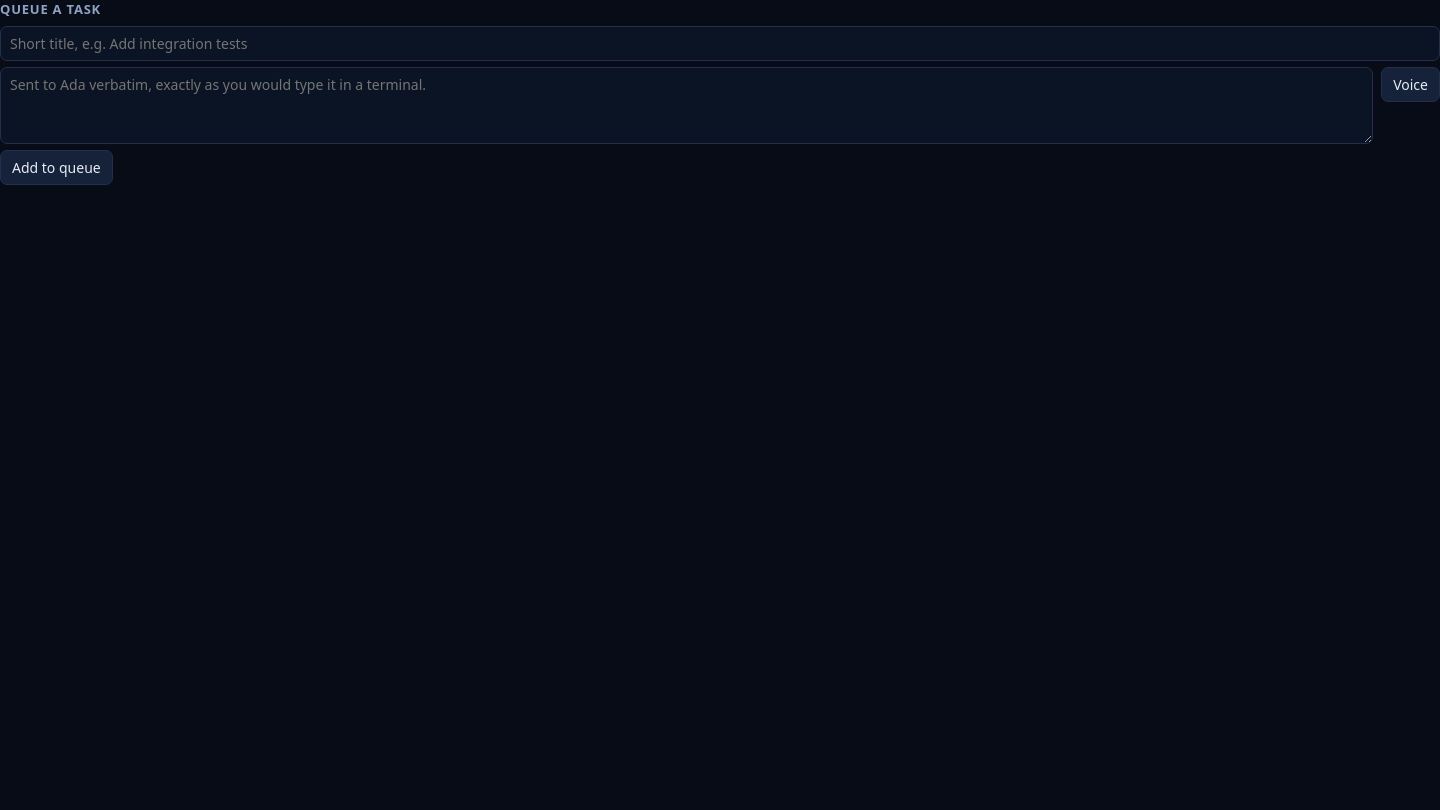
Test: task voice dictation › fills the edited text when the user edits and sends by hand
Step 1. Click the button with aria-label "Start task instruction" → (1411, 84), box [1381,66,1439,102]
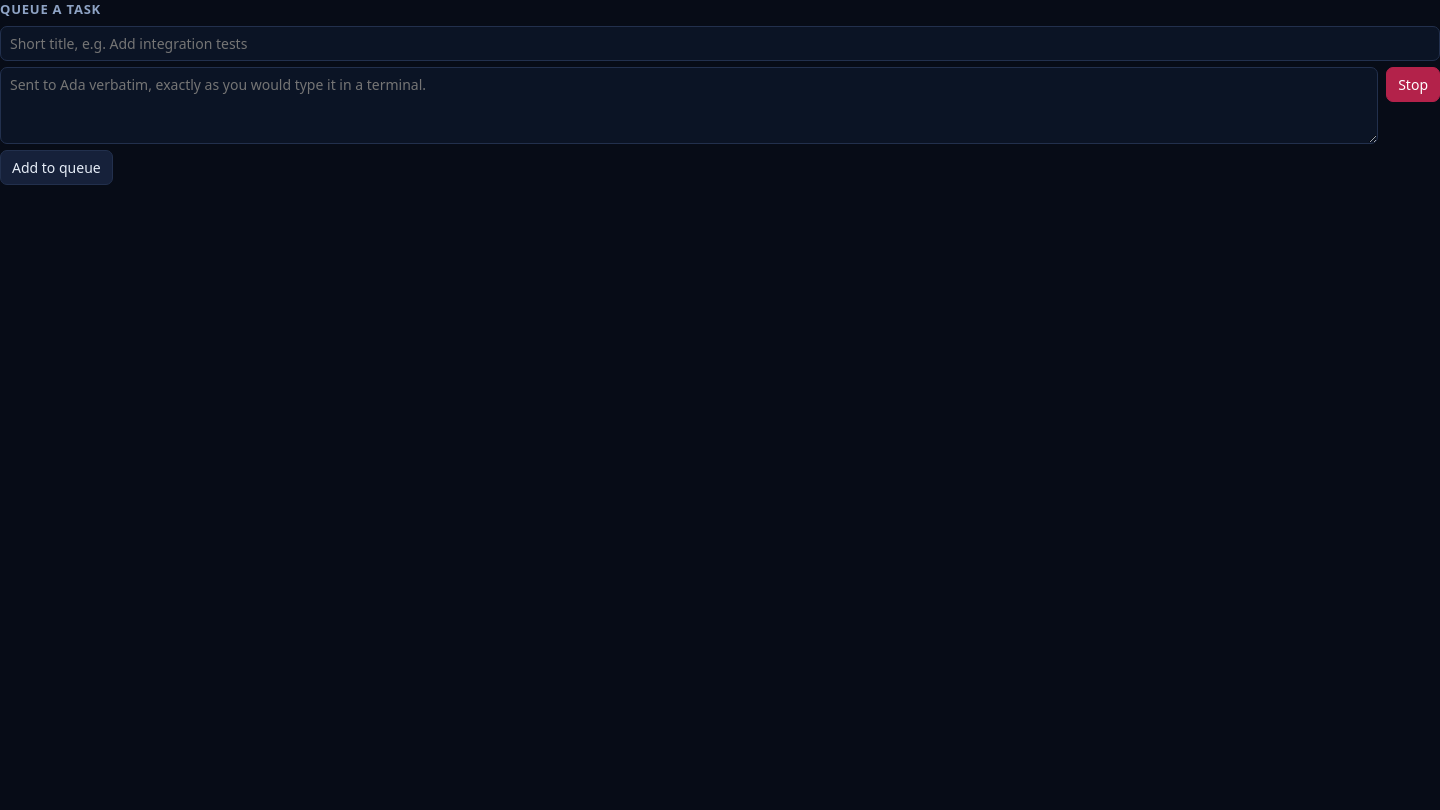
Step 2. Click the button with aria-label "Stop recording" → (1413, 84), box [1386,66,1439,102]
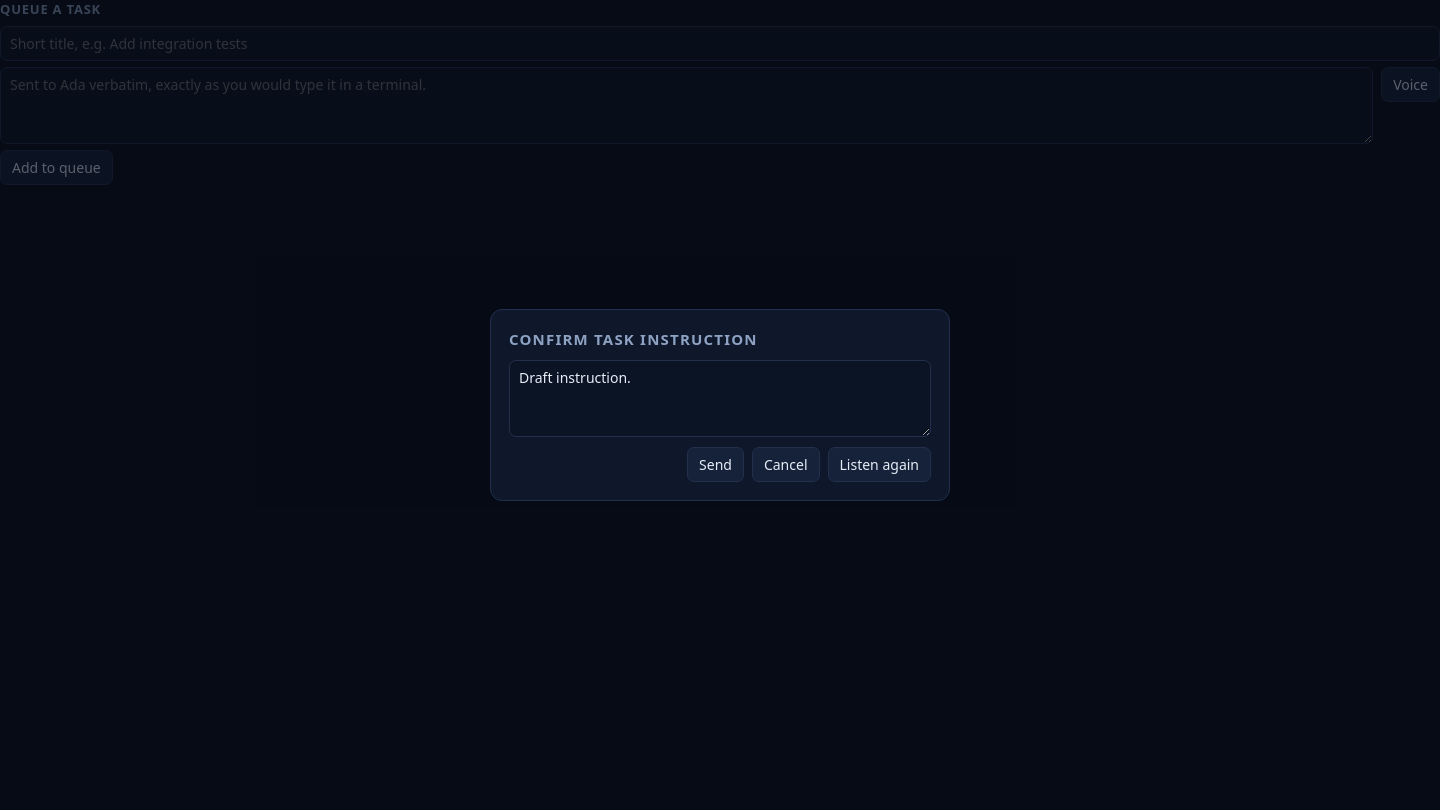
Step 3. Replace the text in the text box named "Dictated instruction" with "edited instruction" → (720, 399), box [509,360,931,437]
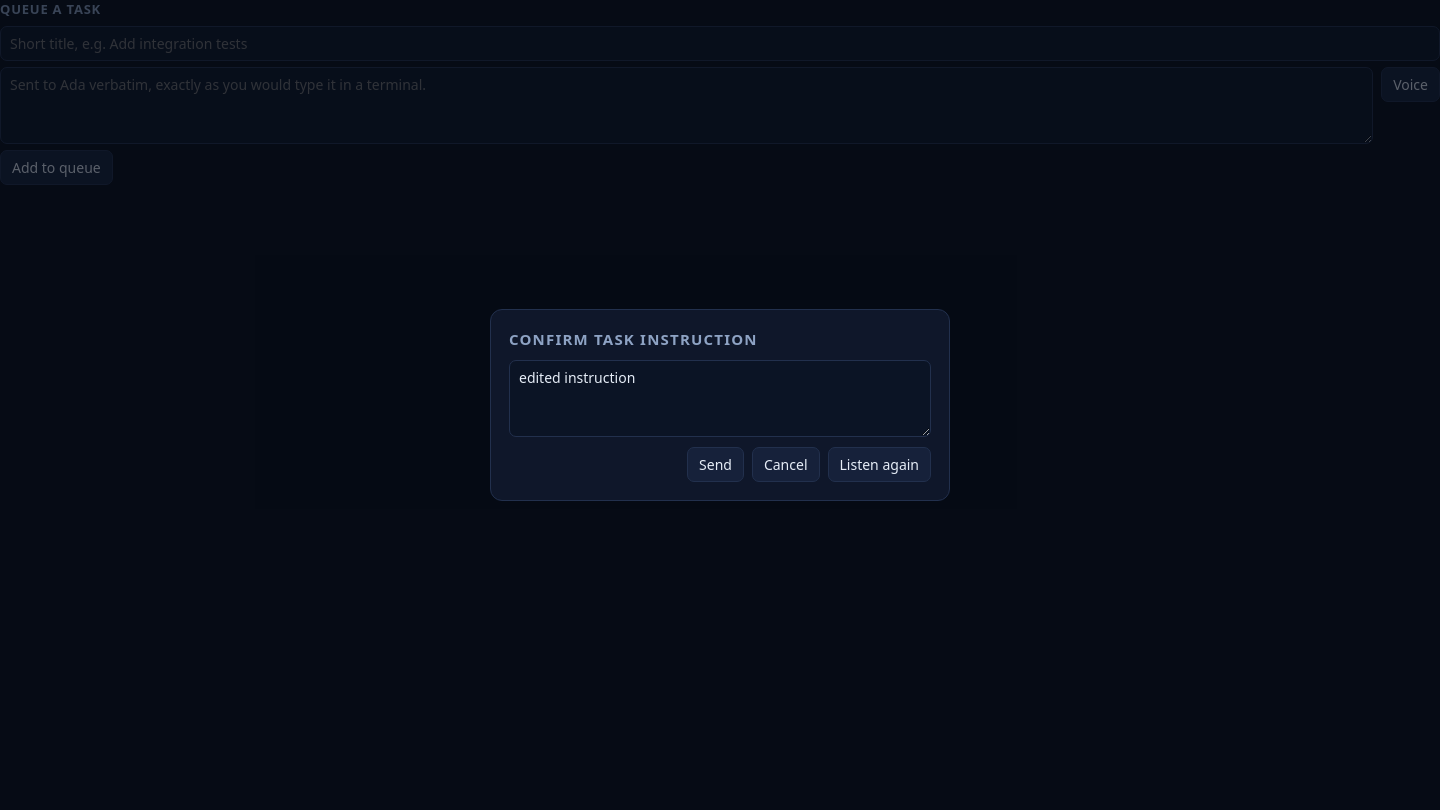
Step 4. Click the button "Send" → (716, 465), box [687,447,744,482]
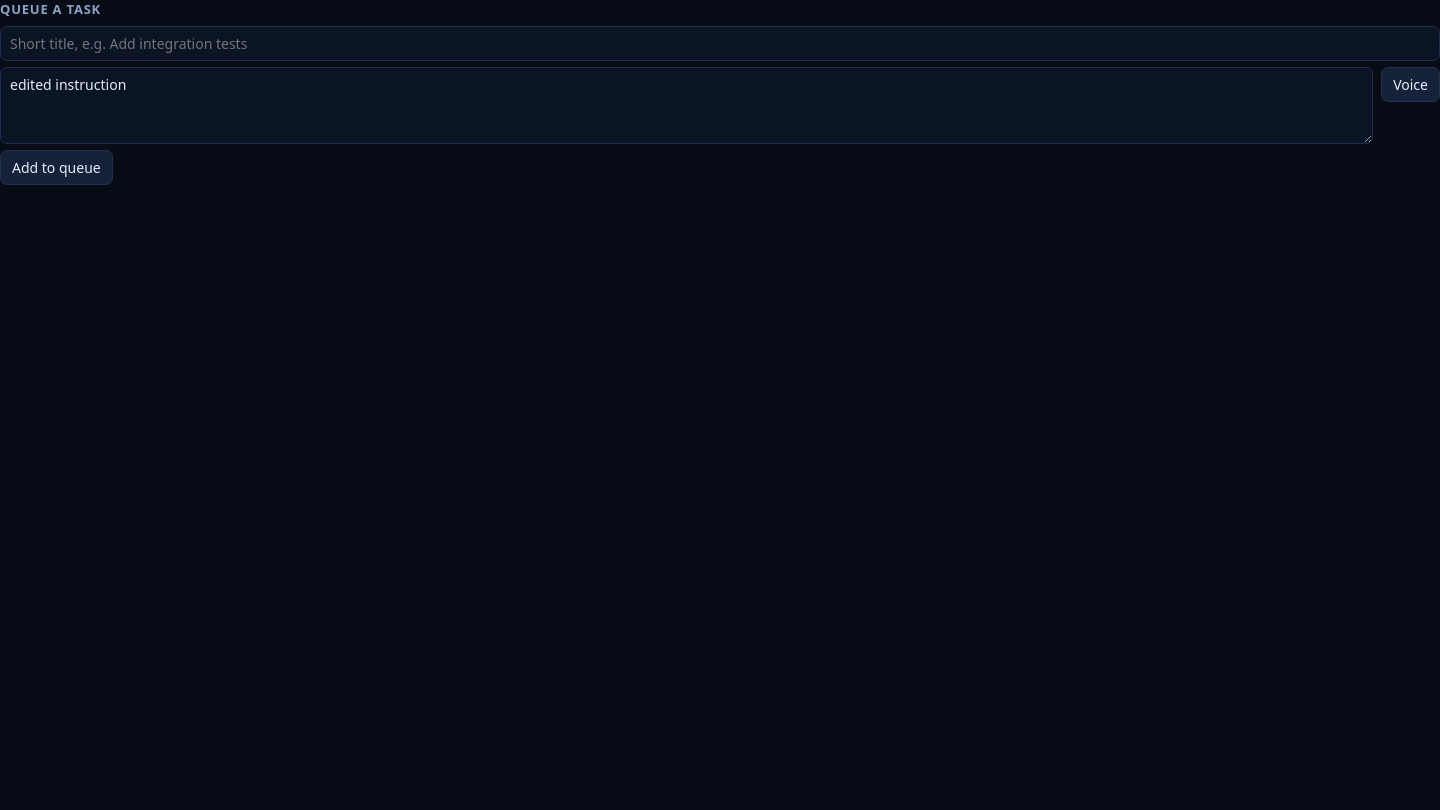
expect the text box named "Task instruction" holds "edited instruction": met, box [0,66,1373,144]
